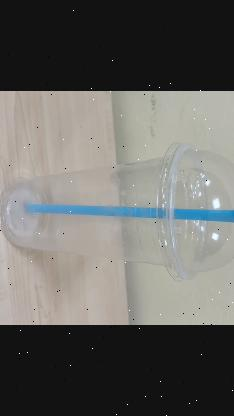Others: (0, 144, 234, 286)
